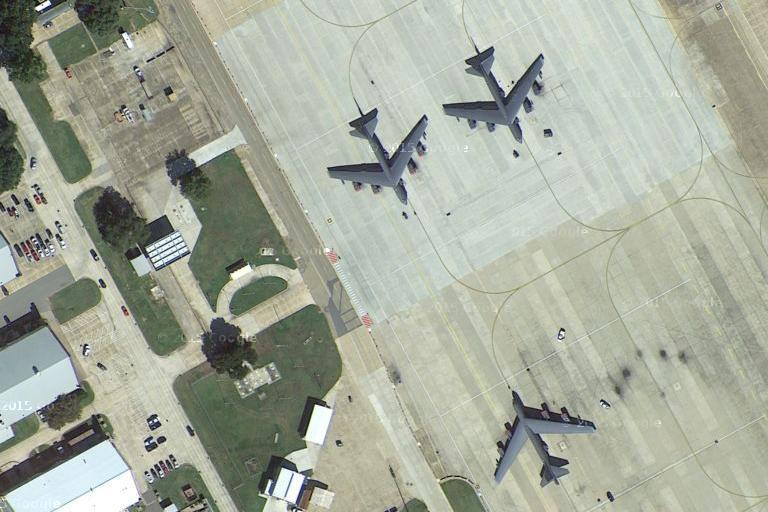B-52: (436, 41, 552, 150), (323, 100, 431, 209), (486, 388, 599, 491)
